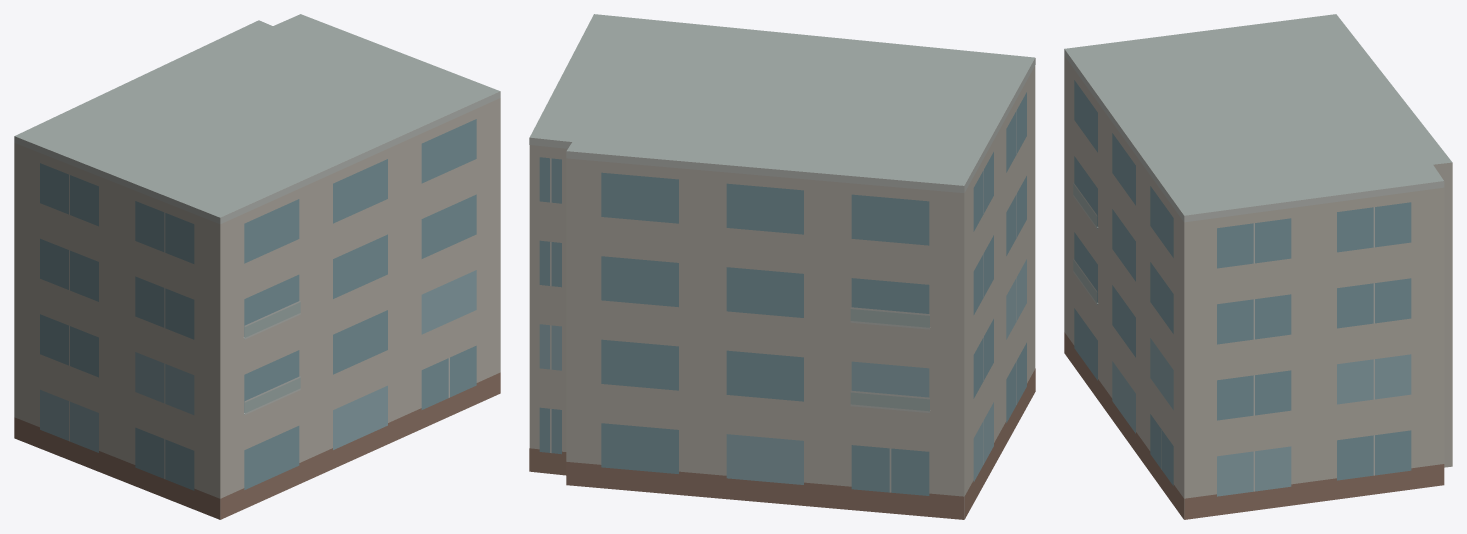
File: survey-upis-32626157.glb
3 views of the same model, side by side, from view 1: azimuth 30°, elevation 25°; view 2: azimuth 150°, elevation 25°; view 3: azimuth 270°, elevation 25° (orthographic). The views are drawn at different scales.
Visible parts, largest first — view 1: survey-upis-32626157.tmp; view 2: survey-upis-32626157.tmp; view 3: survey-upis-32626157.tmp.
Part boxes in pixels (<box>): survey-upis-32626157.tmp: <box>14,14,500,519</box>; survey-upis-32626157.tmp: <box>529,14,1035,519</box>; survey-upis-32626157.tmp: <box>1064,14,1452,519</box>.
Size of the model in its own units: 15.94 by 11.2 by 12.97.
